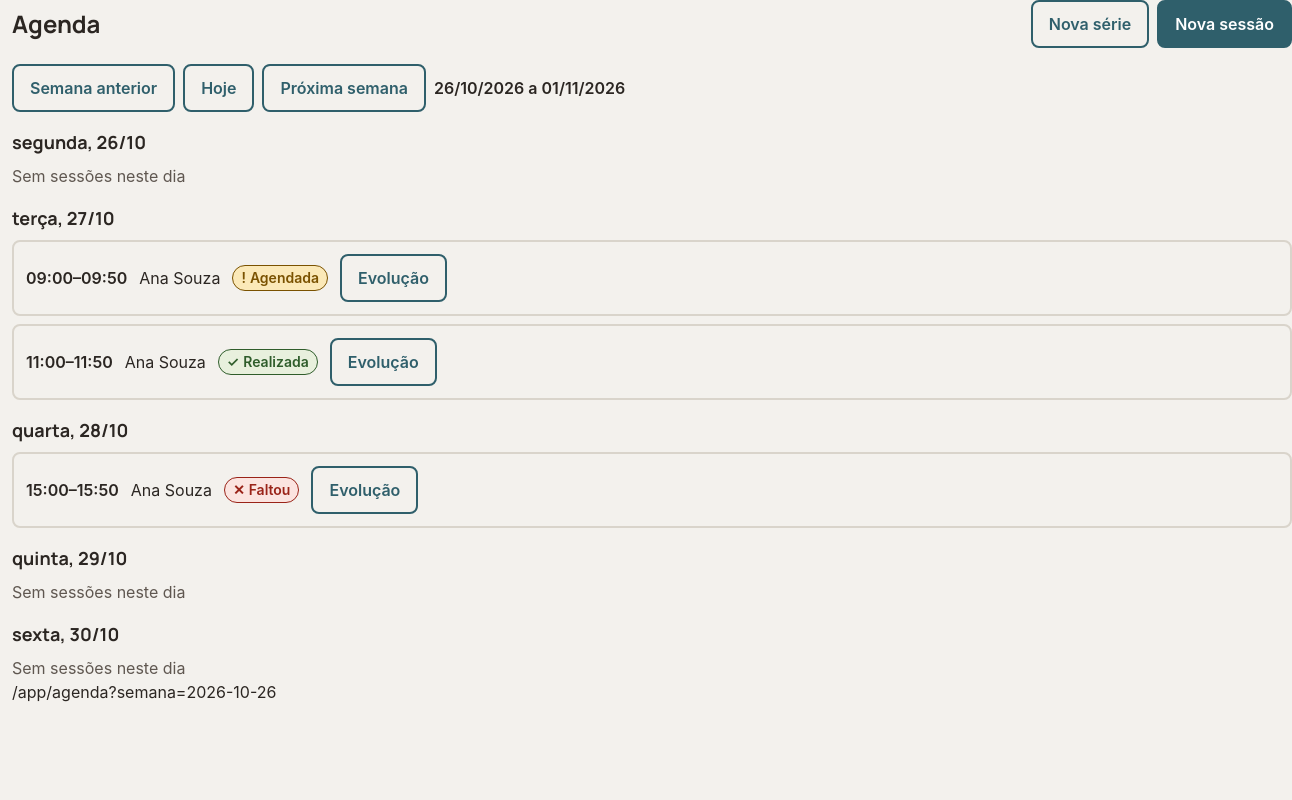
Test: Agenda da semana (AGE-03) › "Evolução" de cada sessão leva à evolução do paciente com ?sessao=<id dela> (EVO-03)
Click the link "Evolução" in the row of "11:00" at (383, 362), box [330,338,437,386]
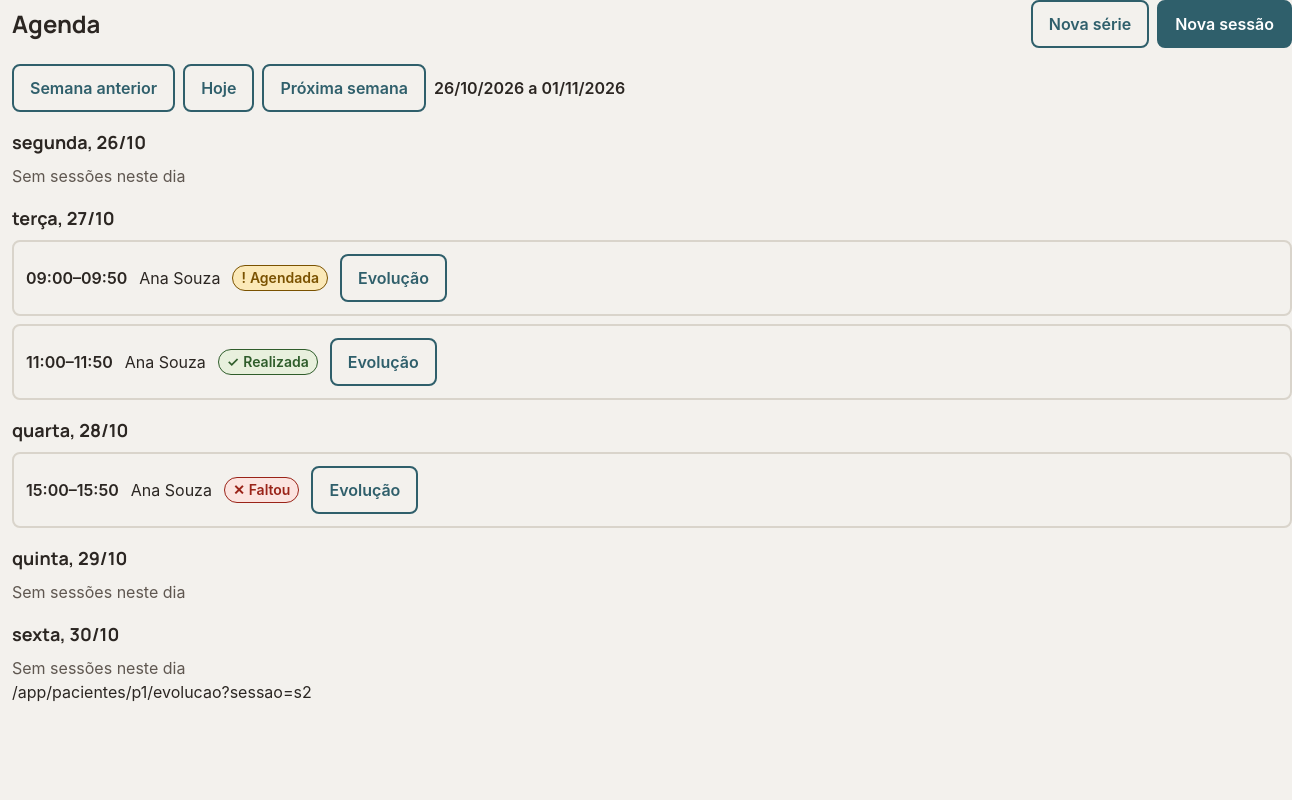
Expected: the text with test id "loc" reads "/app/pacientes/p1/evolucao?sessao=s2", [12,682,312,702]
